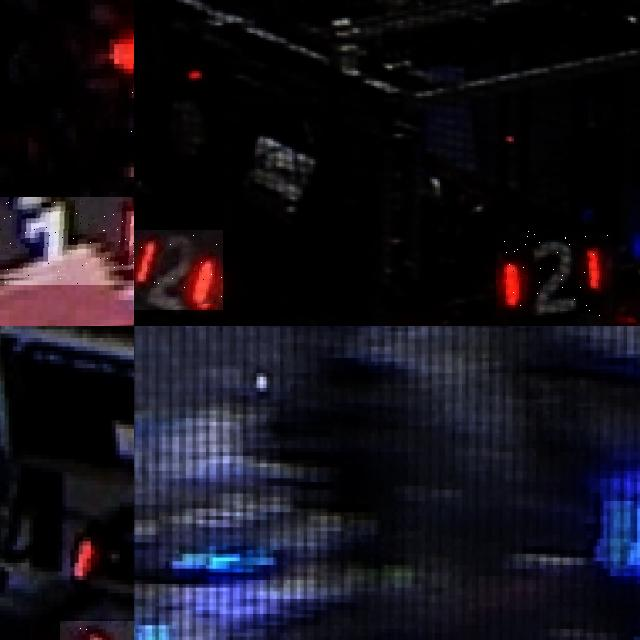R1: (0, 196, 134, 285)
R2: (496, 231, 612, 316), (134, 229, 223, 310)
